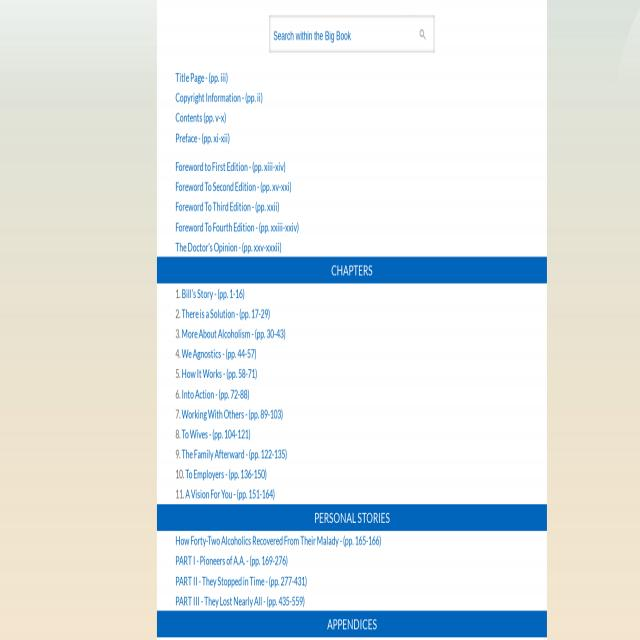field: (270, 17, 435, 53)
